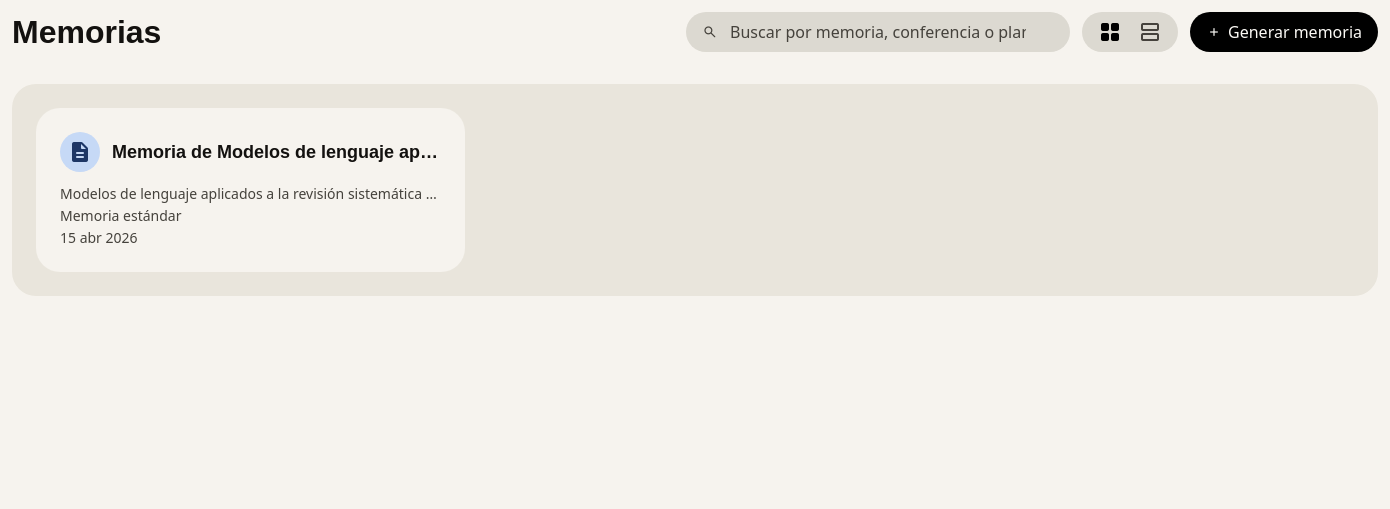
PantallaMemorias › distingue el vacío por filtros del vacío por falta de datos, y el botón para quitarlos restablece el listado
Expected: the list named "Memorias" is shown, x1=36 y1=108 x2=465 y2=272
Type "palabra-inexistente" into the search field labelled "Buscar por memoria, conferencia o plantilla" at (878, 32), box x1=686 y1=12 x2=1070 y2=52
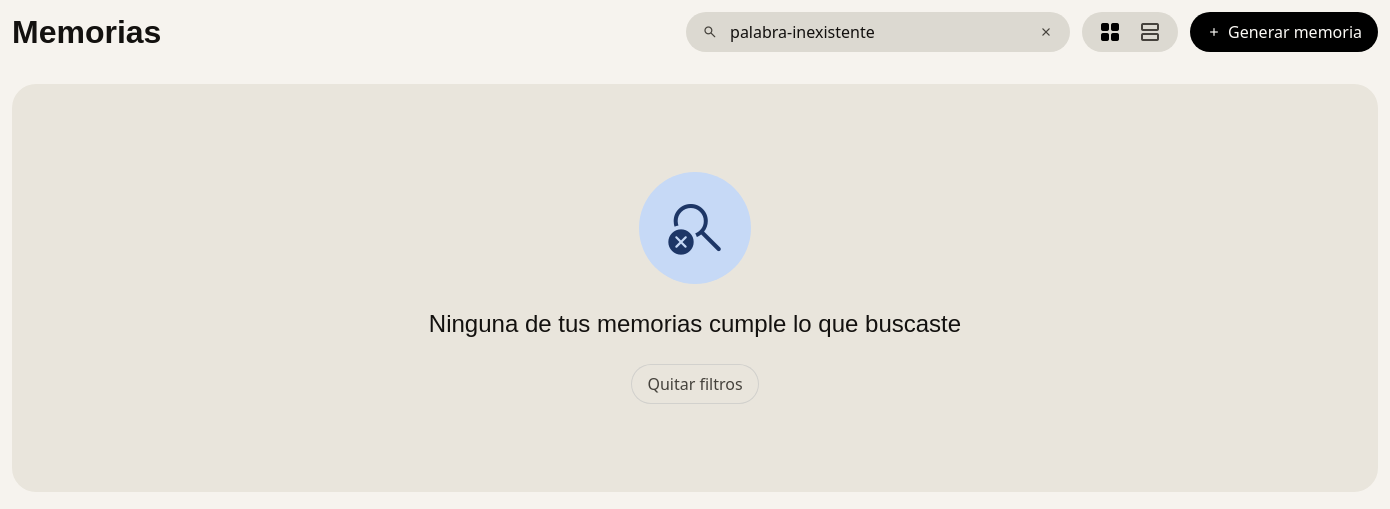
Expected: the text "Ninguna de tus memorias cumple lo que buscaste" is shown, x1=429 y1=308 x2=961 y2=340
Click the button "Quitar filtros" at (695, 384), box x1=631 y1=364 x2=759 y2=404
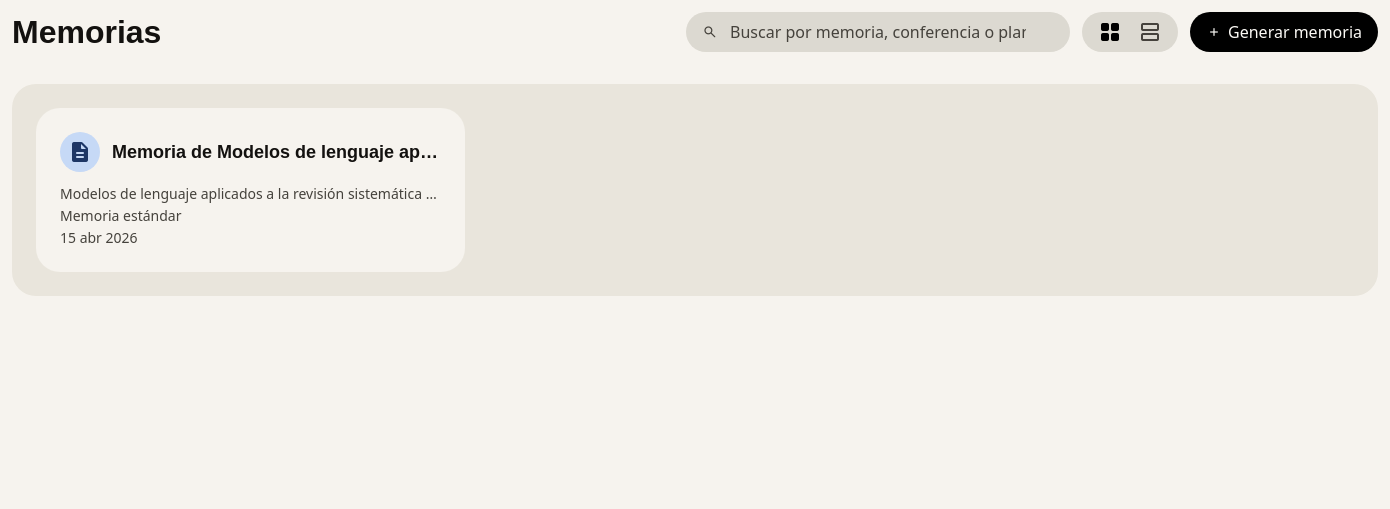
Expected: the text "Memoria de Modelos de lenguaje aplicados a la revisión sistemática de literatura" is shown, x1=112 y1=138 x2=441 y2=166
